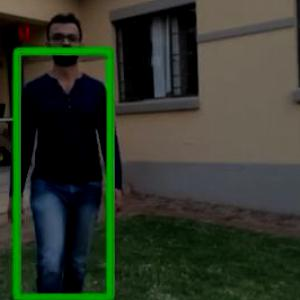follow: (7, 13, 122, 299)
